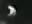person: (8, 5, 18, 19)
